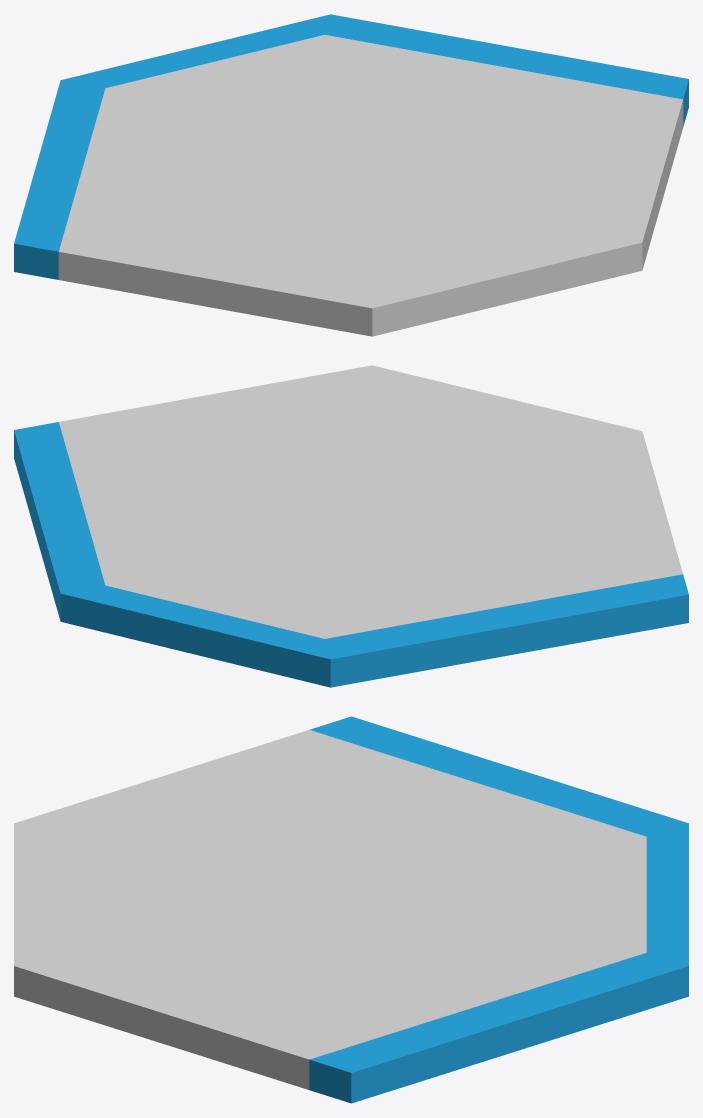
3 renders of one model, top to bottom at view 1: azimuth 30°, elevation 25°; view 2: azimuth 150°, elevation 25°; view 3: azimuth 270°, elevation 25°, orthographic. The views are drawn at different scales.
Parts seen in each view (by area): view 1: Hexagon, NW, NE.001, Nx; view 2: Hexagon, NW, Nx, NE.001; view 3: Hexagon, NE.001, NW, Nx.
Part boxes in pixels (x1,y1,x2,y2): Hexagon: (58,35,683,336); NW: (14,80,105,279); NE.001: (325,14,688,126); Nx: (61,14,330,88); Hexagon: (59,365,682,638); NW: (325,574,688,687); Nx: (60,585,330,687); NE.001: (14,422,104,620); Hexagon: (14,730,646,1089); NE.001: (309,952,688,1103); NW: (309,716,688,836); Nx: (646,823,688,965).
Size of the model in its own units: 5 by 4 by 0.2.
